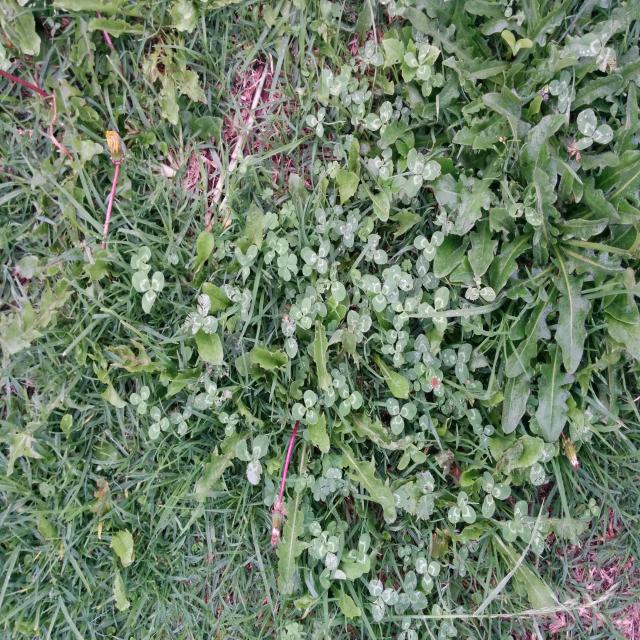Four Leaf Clover: (549, 70, 576, 114)
